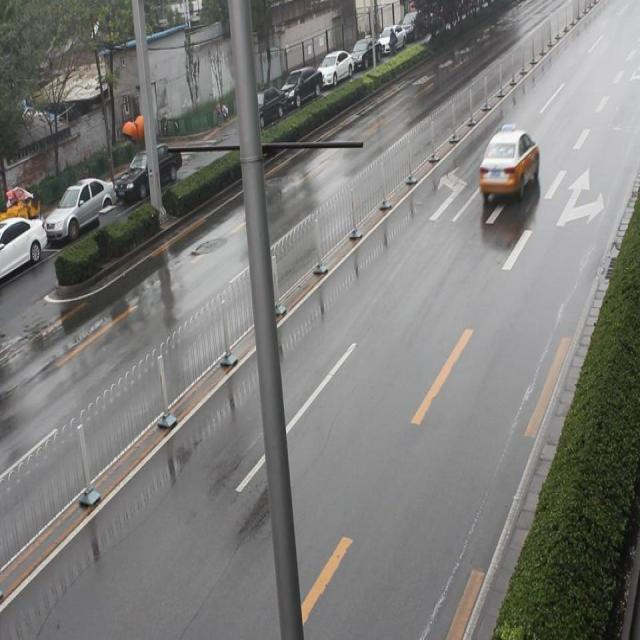car: (476, 119, 540, 205)
